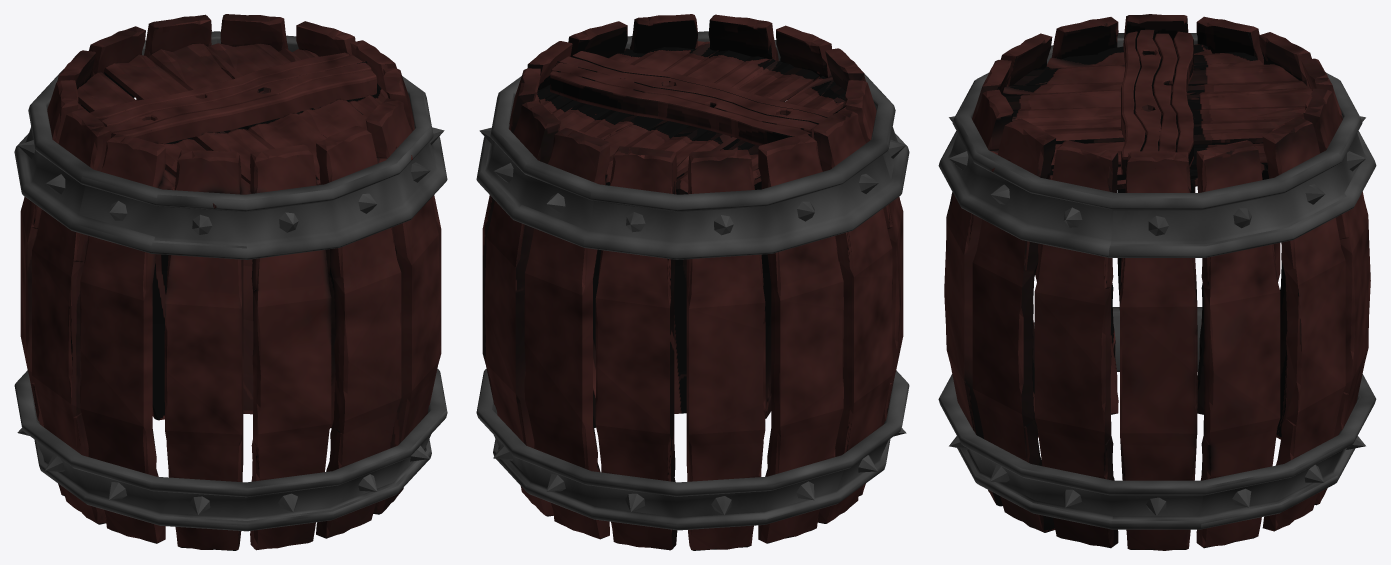
Rendered from Oak.fbx.
3 renders of one model, left to right at view 1: azimuth 30°, elevation 25°; view 2: azimuth 150°, elevation 25°; view 3: azimuth 270°, elevation 25°, orthographic.
Visible parts, largest first — view 1: Cylinder.011; view 2: Cylinder.011; view 3: Cylinder.011.
Boxes of the visible parts, x1=… form: Cylinder.011: x1=14, y1=14, x2=447, y2=550; Cylinder.011: x1=476, y1=14, x2=909, y2=550; Cylinder.011: x1=938, y1=14, x2=1376, y2=550.
Size of the model in its own units: 123 by 125 by 126.
